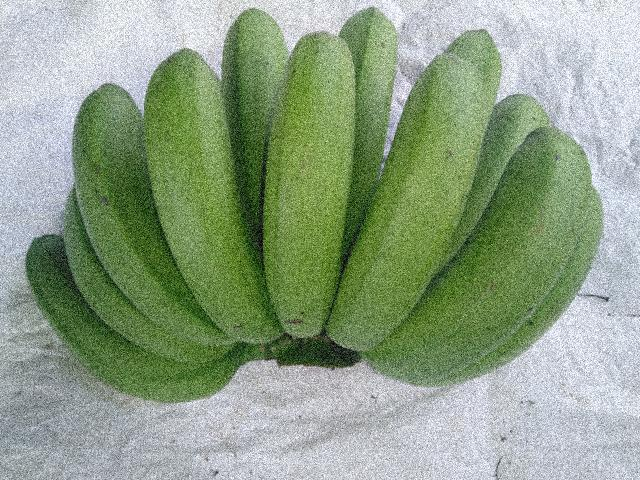unripe: (378, 125, 584, 376), (134, 42, 289, 345), (331, 54, 487, 354), (61, 68, 206, 371), (239, 27, 361, 352)
